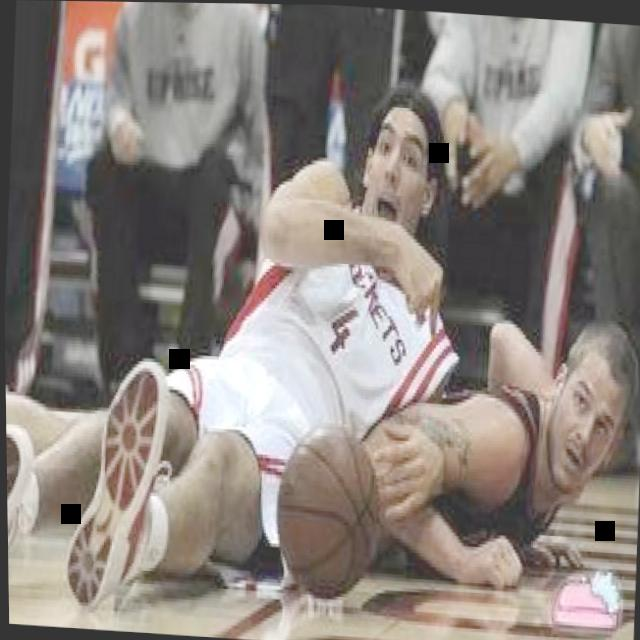Fall-Detected: (40, 13, 607, 634)
